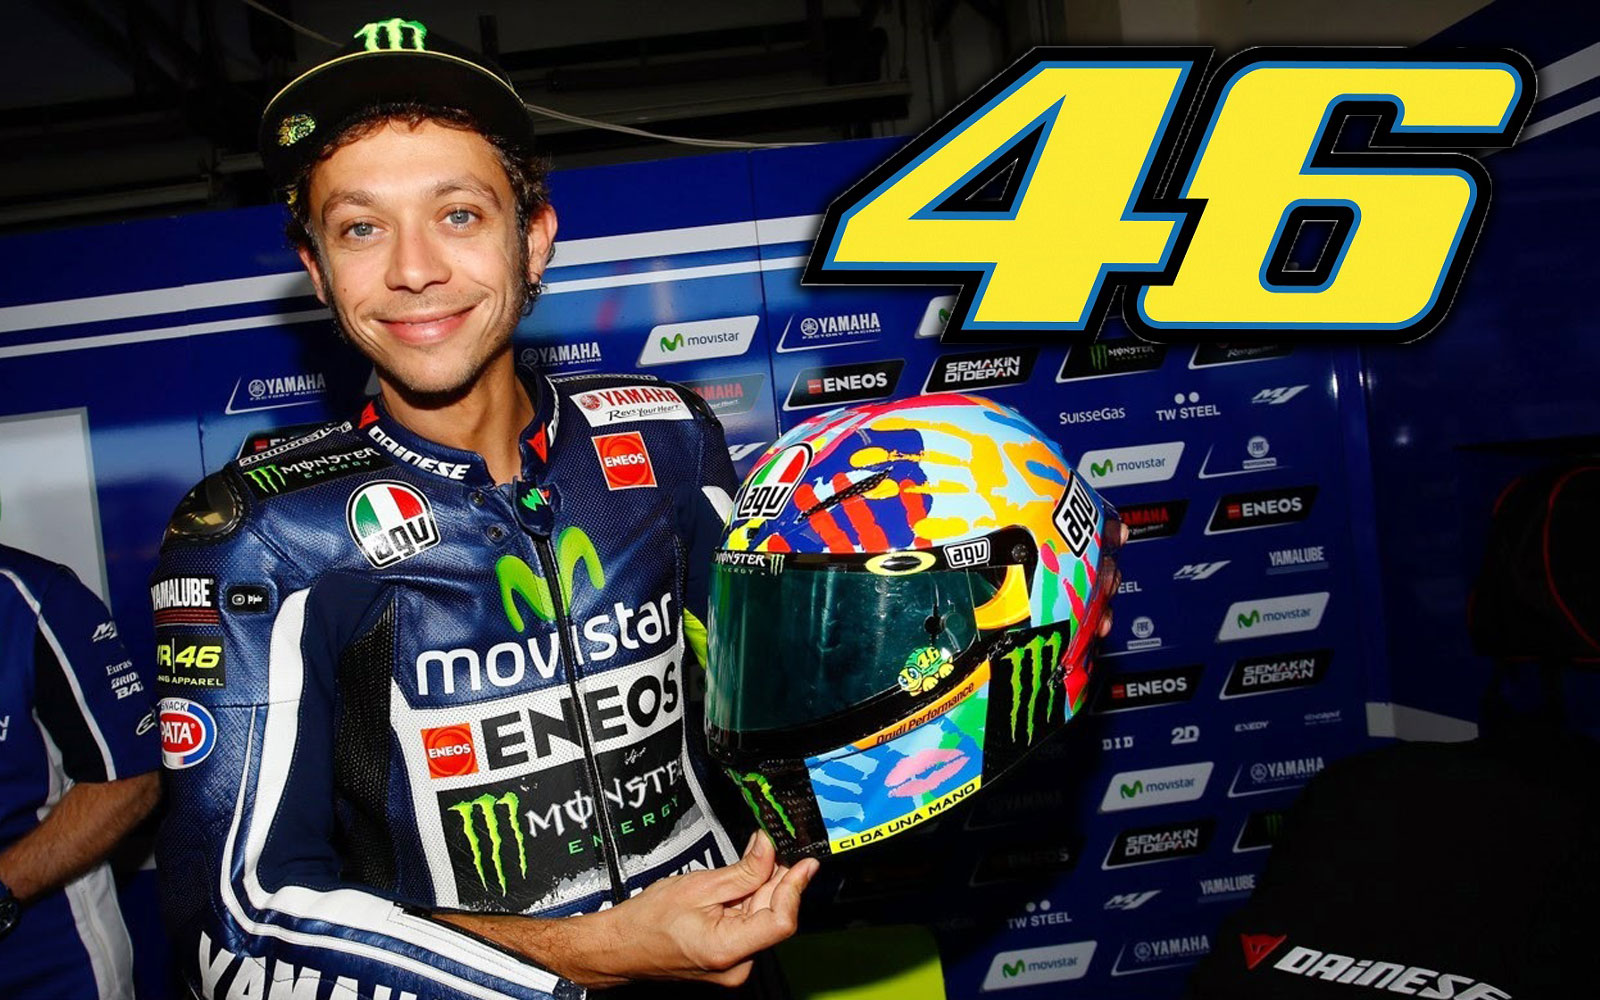helmet: (705, 392, 1125, 874)
